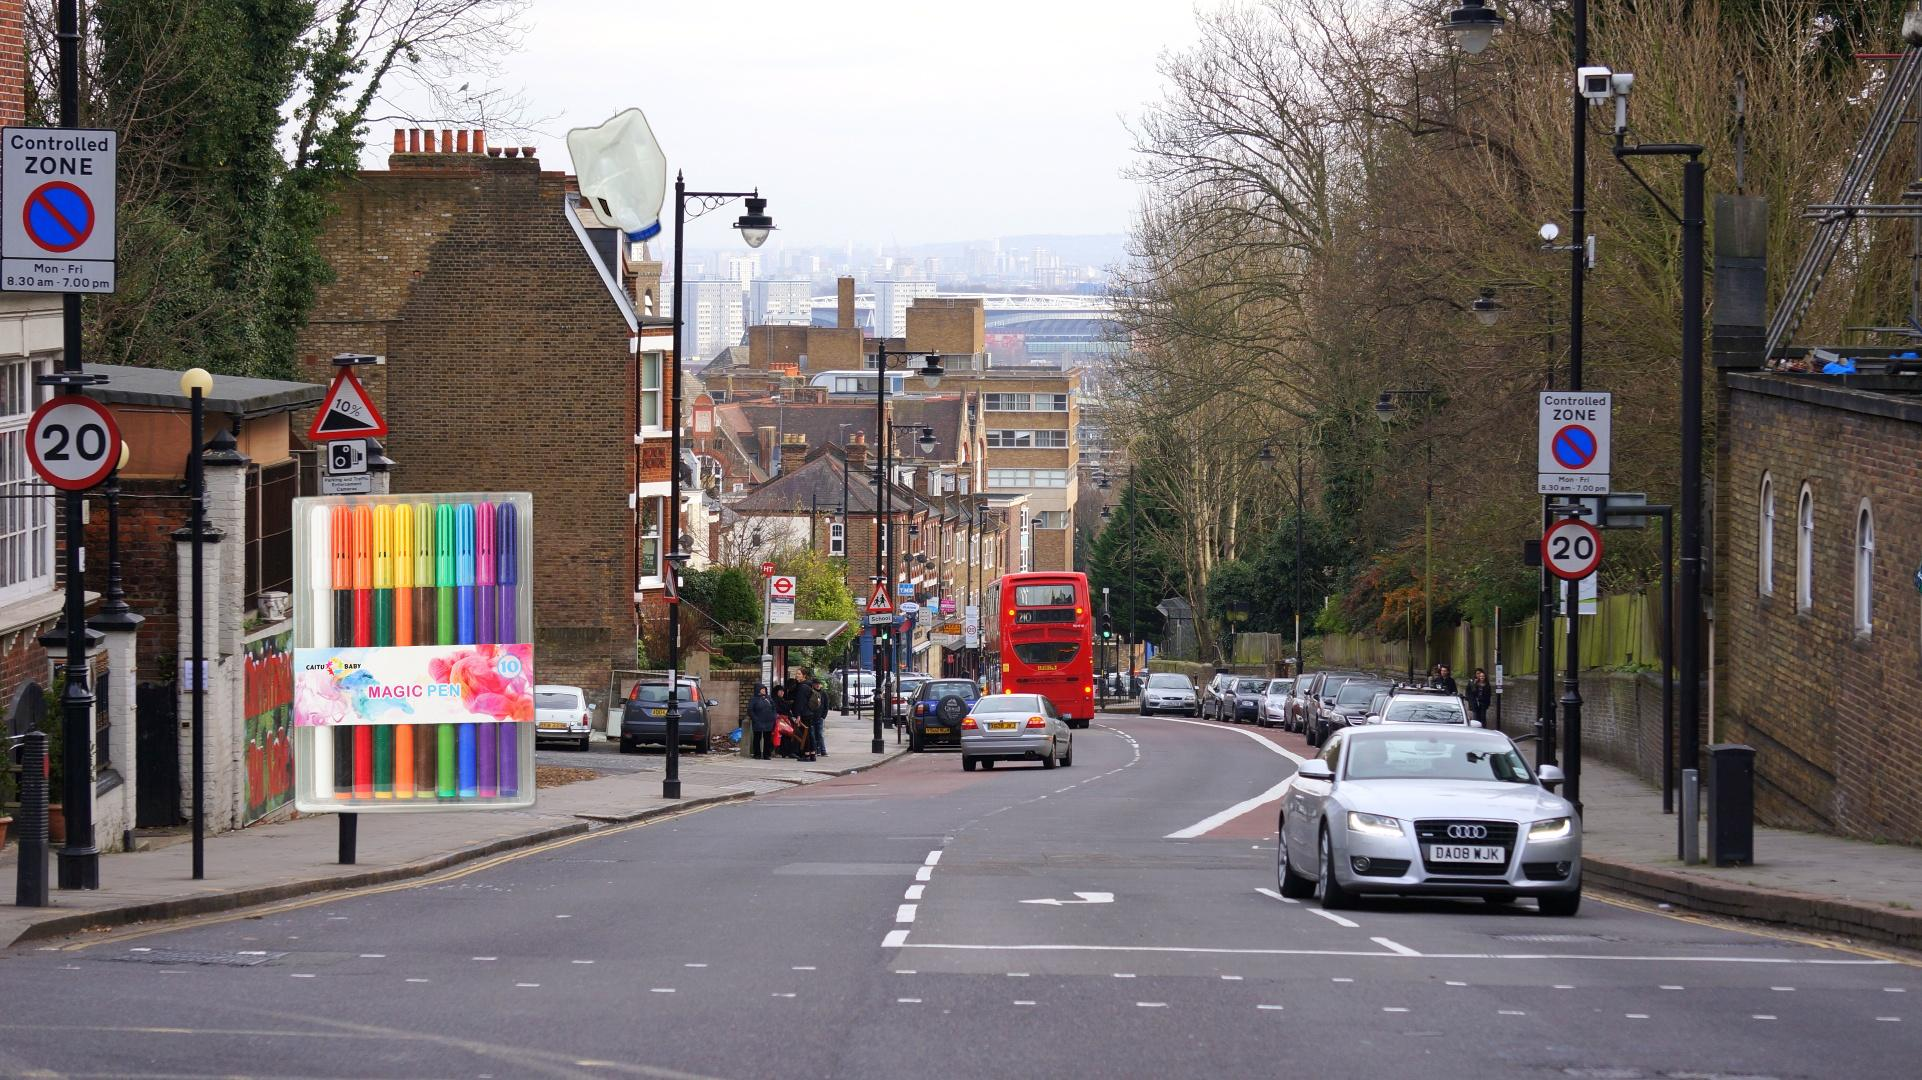penholder: (209, 487, 543, 817)
plastic-bottles: (562, 102, 671, 250), (1910, 549, 1922, 755)
